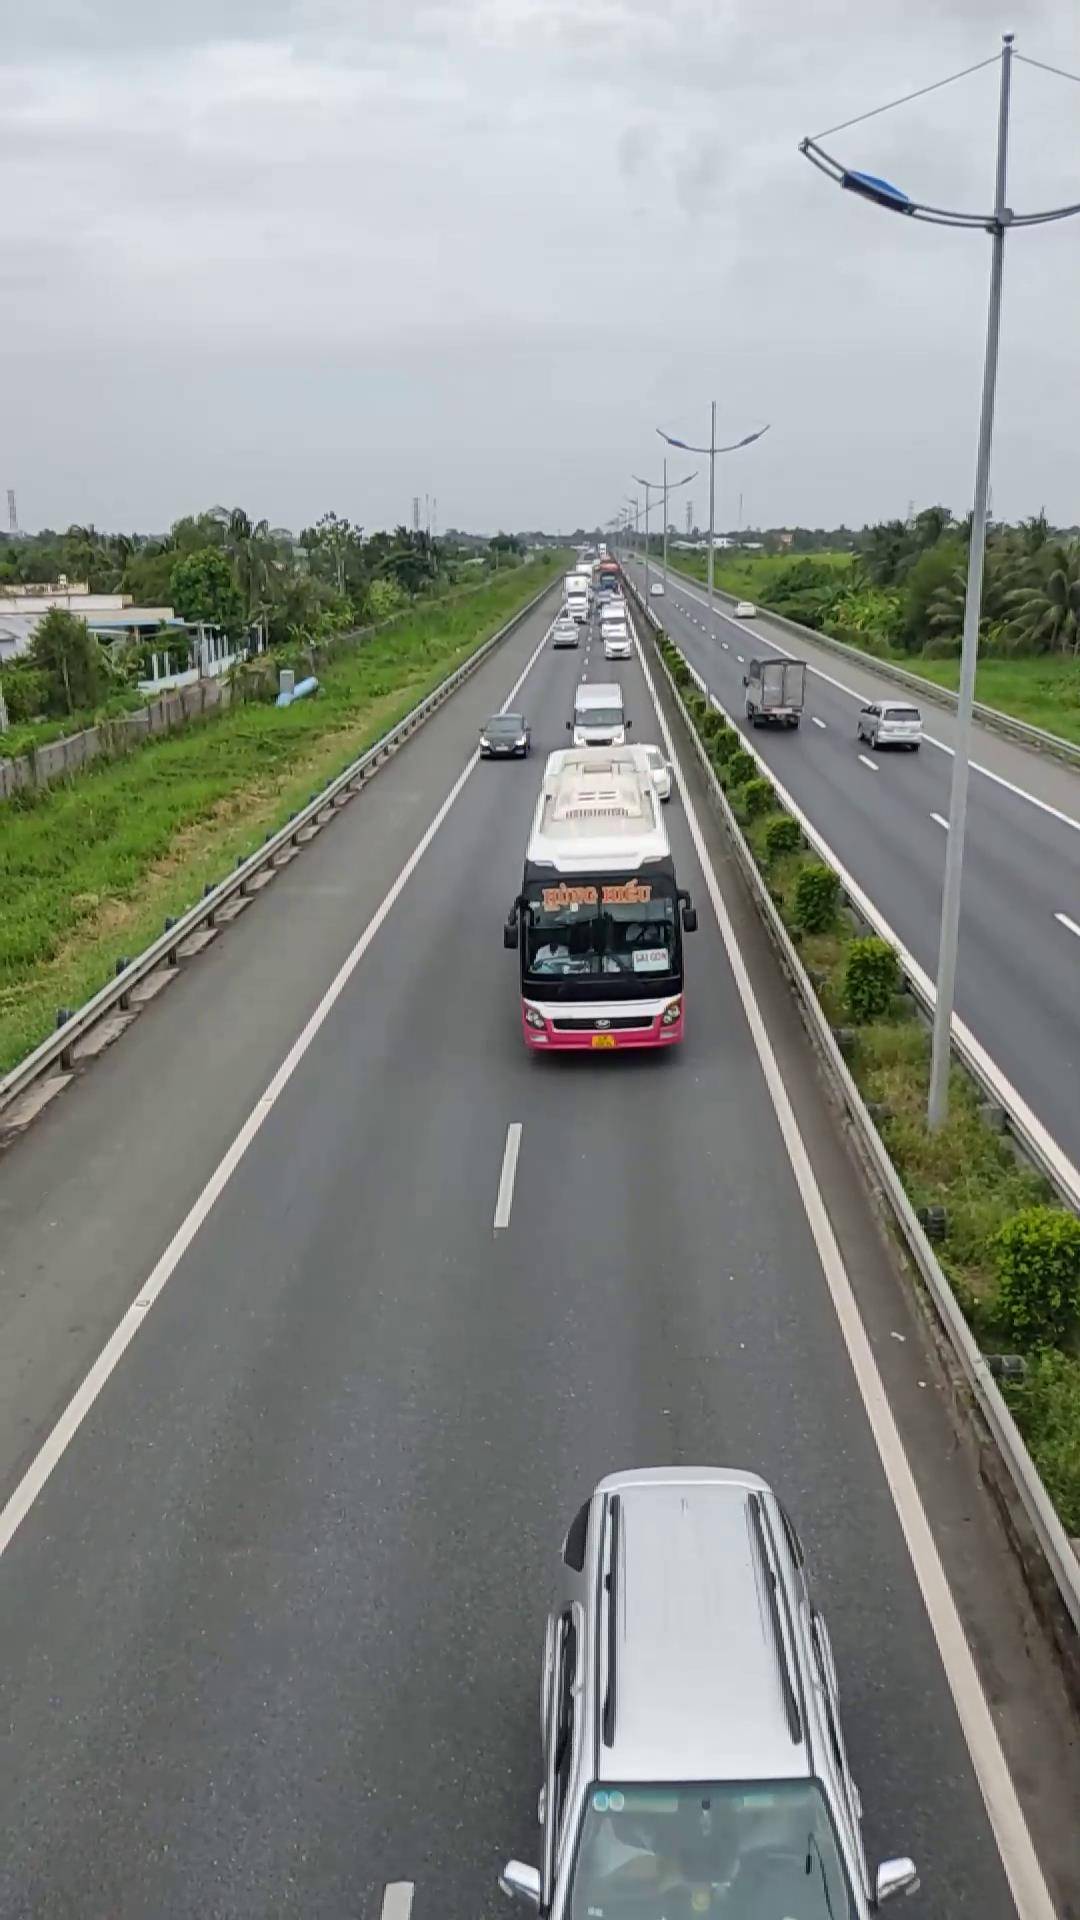bus: (503, 743, 692, 1058)
car: (517, 1466, 923, 1920)
truck: (741, 653, 806, 727)
